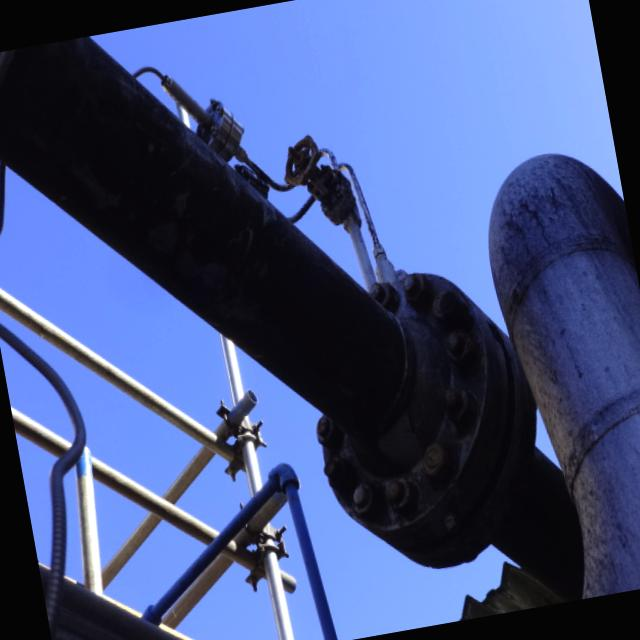gas: (0, 36, 564, 564), (488, 154, 640, 593), (140, 464, 340, 640)
